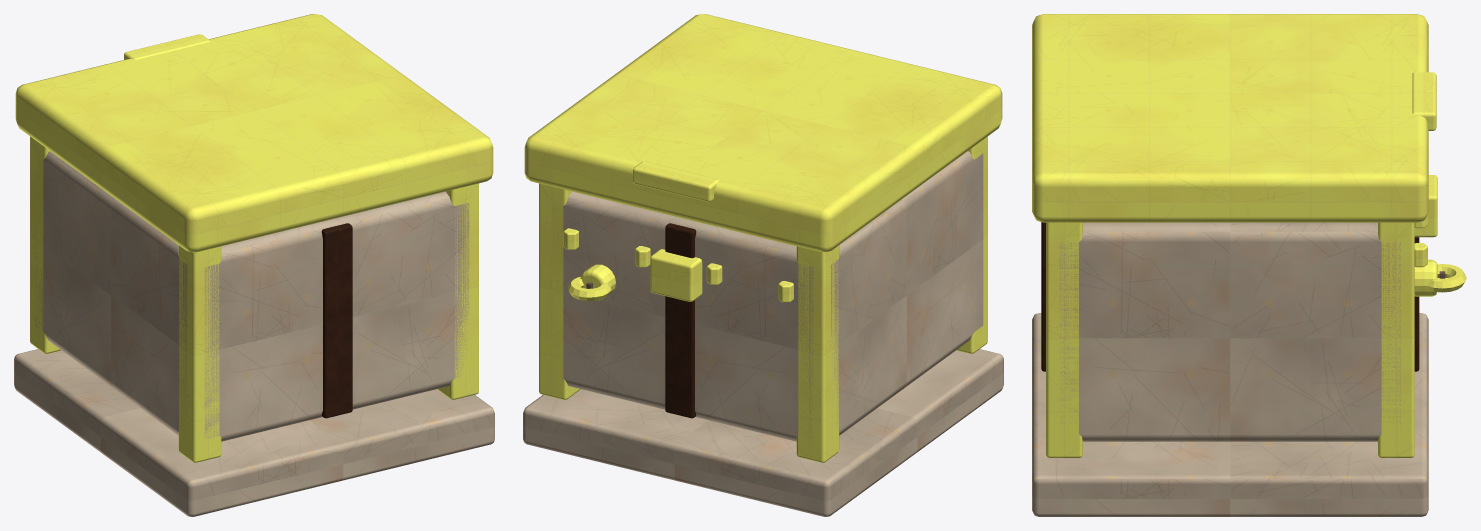
Rendered from ff-chest.glb.
3 renders of one model, left to right at view 1: azimuth 30°, elevation 25°; view 2: azimuth 150°, elevation 25°; view 3: azimuth 270°, elevation 25°, orthographic. The views are drawn at different scales.
Visible parts, largest first — view 1: Corner, Body.004, Base.003, Strap, Handle; view 2: Corner, Body.004, Base.003, Strap, Lock, Handle; view 3: Corner, Body.004, Base.003, Lock, Handle, Strap.
Part boxes in pixels (left/top/right/bottom): Corner: left=15, top=14, right=493, bottom=462; Body.004: left=34, top=151, right=469, bottom=441; Base.003: left=14, top=349, right=494, bottom=516; Strap: left=321, top=223, right=352, bottom=418; Handle: left=124, top=34, right=209, bottom=59; Corner: left=524, top=14, right=1002, bottom=462; Body.004: left=554, top=151, right=983, bottom=441; Base.003: left=523, top=349, right=1003, bottom=516; Strap: left=665, top=223, right=696, bottom=418; Lock: left=568, top=249, right=702, bottom=301; Handle: left=633, top=161, right=719, bottom=201; Corner: left=1032, top=14, right=1437, bottom=457; Body.004: left=1059, top=222, right=1400, bottom=441; Base.003: left=1032, top=313, right=1428, bottom=516; Lock: left=1414, top=175, right=1466, bottom=292; Handle: left=1412, top=72, right=1436, bottom=130; Strap: left=1041, top=222, right=1419, bottom=371.
Bounding box in the file's own units: 0.86 × 0.8225 × 0.943.
9 materials, 8 textured.
